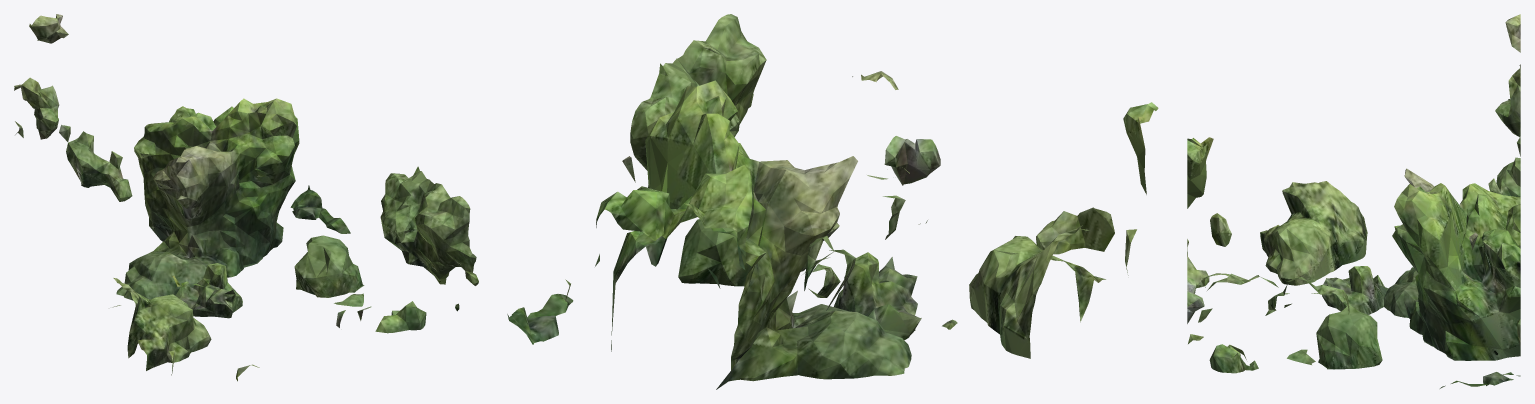
3 renders of one model, left to right at view 1: azimuth 30°, elevation 25°; view 2: azimuth 150°, elevation 25°; view 3: azimuth 270°, elevation 25°, orthographic. The views are drawn at different scales.
Size of the model in its own units: 26.11 by 21.4 by 26.11.
3 materials, 3 textured.
